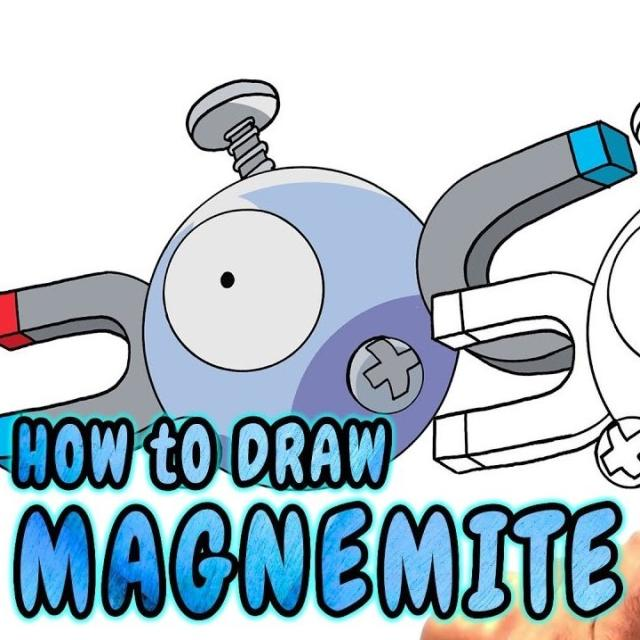Magnemite: (0, 91, 624, 418)
